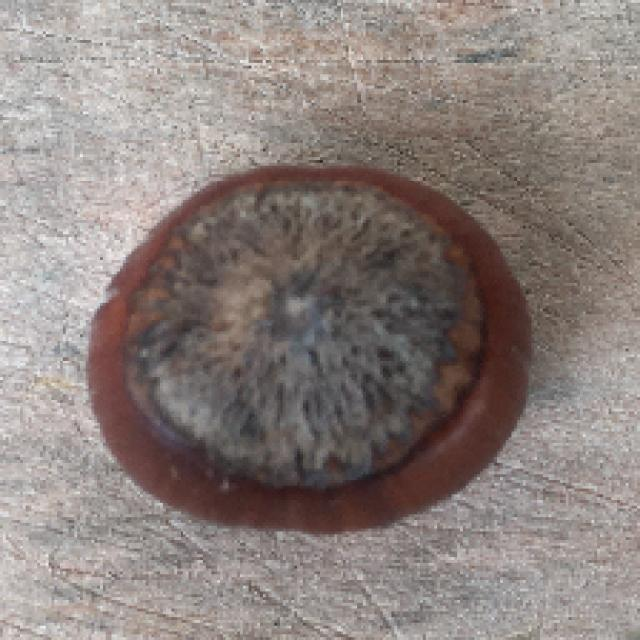DamagedHazelnut: (88, 164, 534, 536)
